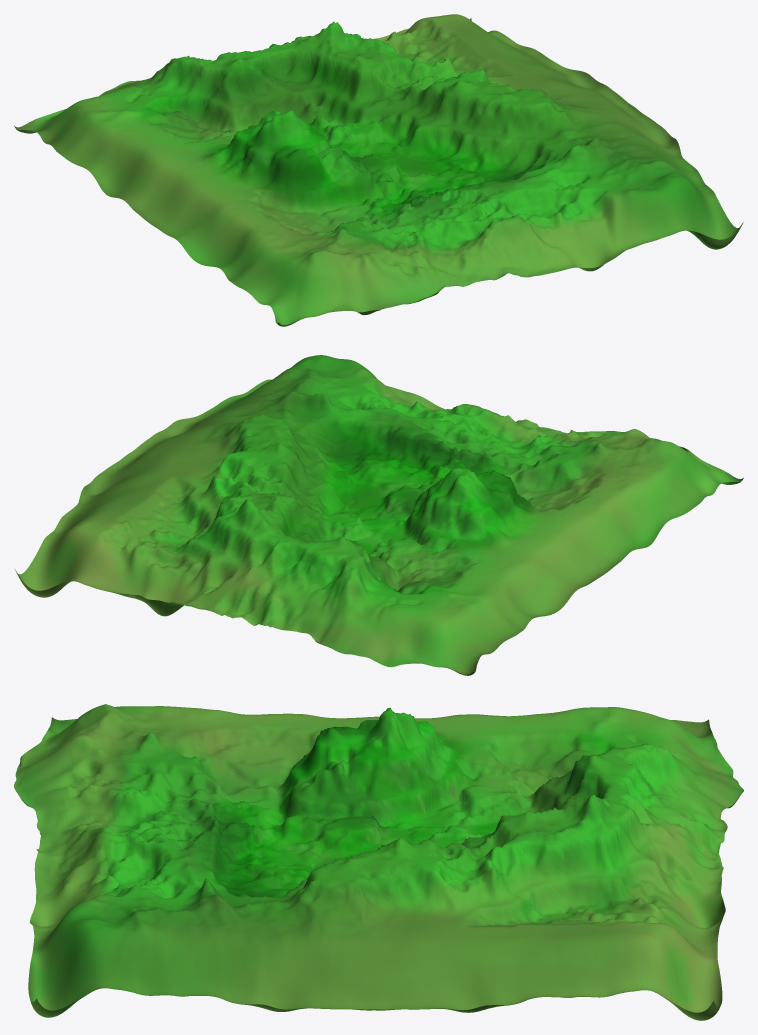
File: Secondisland.fbx
3 views of the same model, one above another, from view 1: azimuth 30°, elevation 25°; view 2: azimuth 150°, elevation 25°; view 3: azimuth 270°, elevation 25° (orthographic). The views are drawn at different scales.
Visible parts, largest first — view 1: Landscape.007; view 2: Landscape.007; view 3: Landscape.007.
Part boxes in pixels (x1,y1,x2,y2): Landscape.007: [14, 14, 743, 326]; Landscape.007: [15, 355, 743, 675]; Landscape.007: [14, 704, 743, 1020].
Bounding box in the file's own units: 10718 × 2196 × 11324.
1 material, 1 textured.
